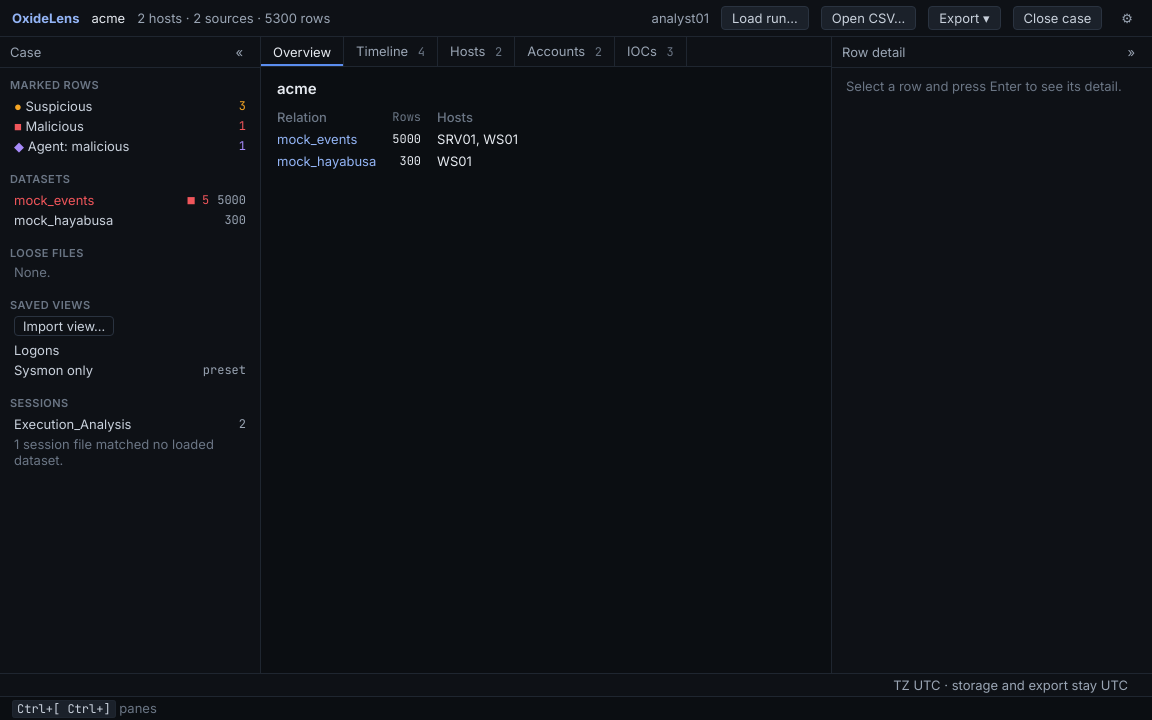
the Timeline sheet › entries_made_out_of_time_order_list_by_time_with_undated_last
The width and height of the screenshot is (1152, 720).
Earlier steps of the test are not shown.
Expected: the tab "Overview" is shown, [261,38,343,66]
Click the tab "Timeline 4" at [391, 52], box [344,37,437,66]
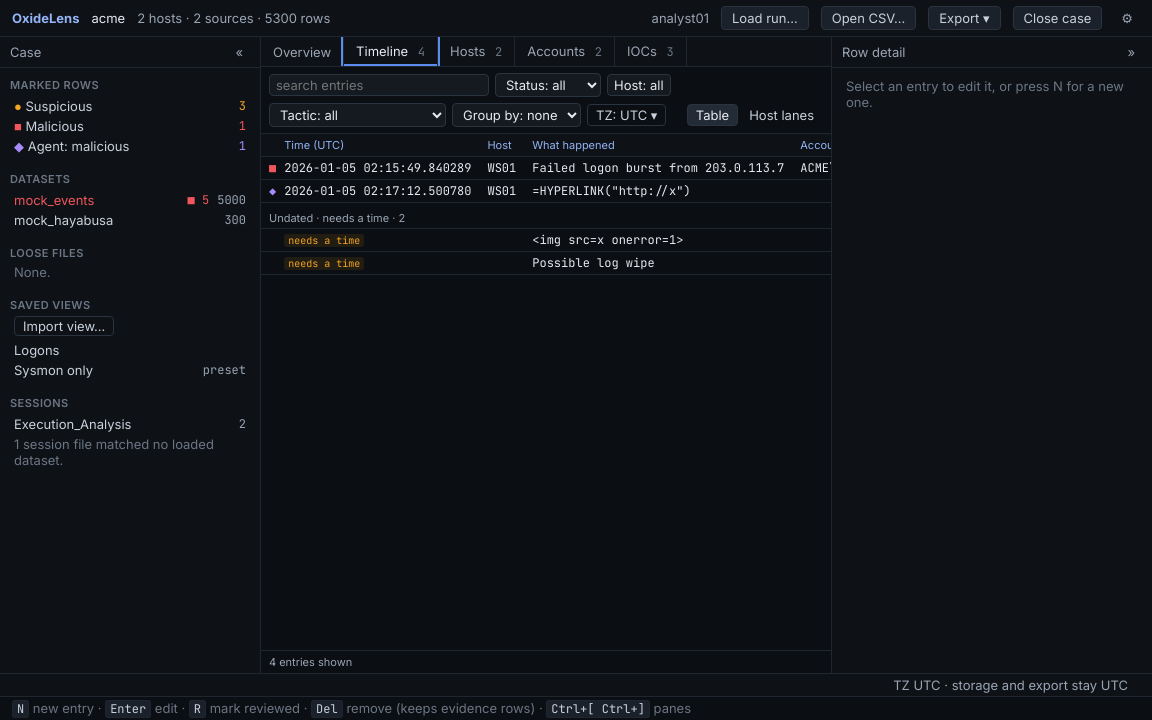
Expected: the table named "Timeline entries" is shown, [261,134,831,275]
